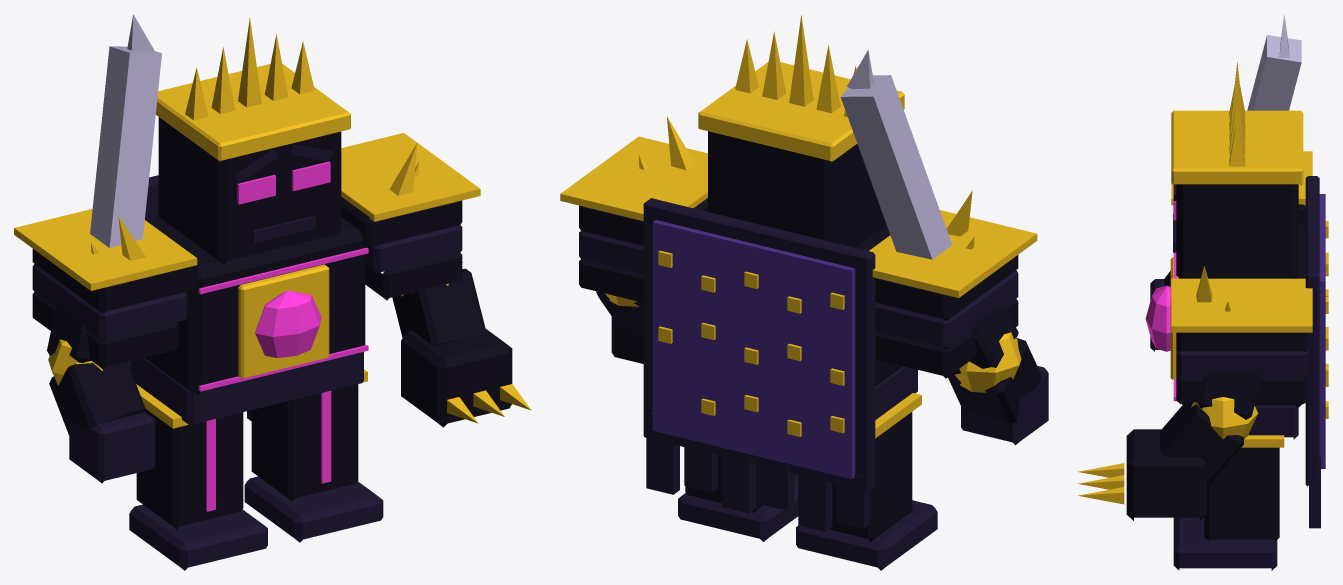
The model's file is r16_boss_void_emperor.glb.
3 renders of one model, left to right at view 1: azimuth 30°, elevation 25°; view 2: azimuth 150°, elevation 25°; view 3: azimuth 270°, elevation 25°, orthographic. The views are drawn at different scales.
Parts seen in each view (by area): view 1: r16_boss_void_emperor_mesh; view 2: r16_boss_void_emperor_mesh; view 3: r16_boss_void_emperor_mesh.
Boxes of the visible parts, x1,y1,x2,y2 form: r16_boss_void_emperor_mesh: [14, 14, 531, 570]; r16_boss_void_emperor_mesh: [560, 15, 1048, 570]; r16_boss_void_emperor_mesh: [1077, 15, 1328, 570].
Size of the model in its own units: 7.54 by 9 by 4.34.
1 material, 1 textured.
